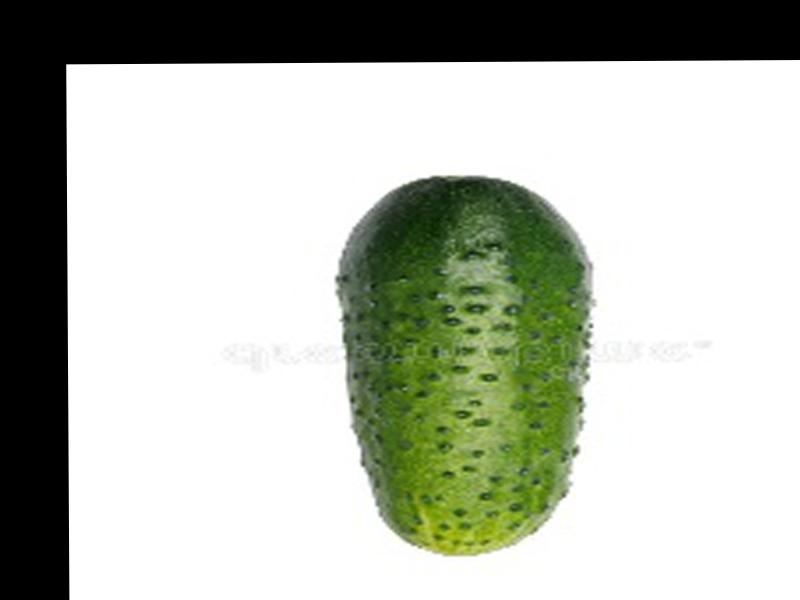Cucumber: (335, 174, 598, 559)
